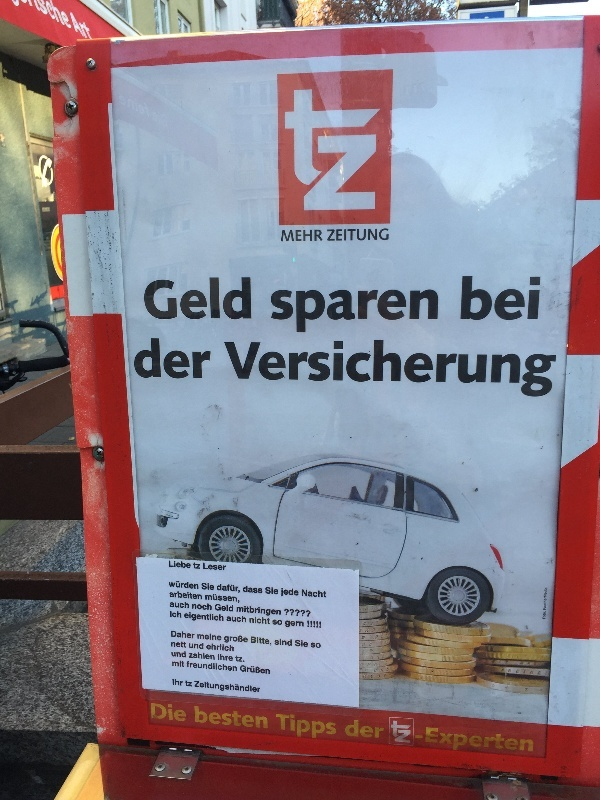text: (289, 89, 304, 211), (305, 89, 320, 211), (321, 89, 336, 211), (337, 89, 352, 211), (353, 89, 368, 211), (369, 89, 380, 211), (225, 334, 240, 402), (241, 334, 256, 402), (257, 334, 272, 402), (273, 334, 288, 402), (289, 334, 304, 402), (305, 334, 320, 402), (321, 334, 336, 402), (337, 334, 352, 402), (353, 334, 368, 402), (369, 334, 384, 402), (385, 334, 400, 402), (401, 334, 416, 402), (417, 334, 432, 402), (433, 334, 448, 402), (449, 334, 464, 402), (465, 334, 480, 402), (481, 334, 496, 402), (497, 334, 512, 402), (273, 288, 288, 336), (289, 288, 304, 336), (305, 288, 320, 336), (321, 288, 336, 336), (337, 288, 352, 336), (353, 288, 368, 336), (369, 288, 384, 336), (385, 288, 400, 336), (401, 288, 416, 336), (417, 288, 432, 336), (465, 276, 480, 322), (481, 276, 496, 322), (497, 276, 512, 322), (513, 276, 528, 322), (145, 277, 160, 320), (161, 277, 176, 320), (177, 277, 192, 320), (193, 277, 208, 320), (209, 277, 224, 320), (225, 277, 240, 320), (145, 338, 160, 379), (161, 338, 176, 379), (177, 338, 192, 379), (193, 338, 208, 379), (529, 276, 541, 322), (241, 277, 252, 320), (433, 728, 448, 757), (449, 728, 464, 757), (465, 728, 480, 757), (481, 728, 496, 757), (497, 728, 512, 757), (513, 728, 528, 757), (321, 714, 337, 740), (513, 334, 519, 402), (289, 714, 304, 740), (305, 714, 320, 740), (17, 1, 32, 27), (33, 1, 48, 27), (49, 1, 64, 27), (135, 338, 144, 379), (285, 89, 288, 211), (209, 706, 224, 729), (225, 706, 240, 729), (241, 706, 256, 729), (161, 702, 176, 723), (276, 714, 288, 740), (81, 13, 93, 39), (195, 706, 208, 729), (433, 288, 439, 336), (353, 720, 368, 739), (369, 720, 384, 739), (220, 334, 224, 402), (401, 720, 412, 744), (70, 13, 80, 39), (257, 706, 268, 729), (391, 720, 400, 744), (337, 228, 352, 242), (353, 228, 368, 242), (369, 228, 384, 242), (209, 681, 224, 695), (225, 681, 240, 695), (241, 681, 256, 695), (177, 702, 187, 723), (289, 229, 304, 242), (305, 229, 320, 242), (151, 702, 160, 723), (195, 681, 208, 695), (65, 1, 72, 27), (241, 605, 256, 617), (257, 605, 272, 617), (426, 728, 432, 757), (209, 593, 224, 604), (225, 593, 240, 604), (193, 661, 208, 672), (209, 661, 224, 672), (177, 580, 192, 590), (225, 584, 240, 594), (305, 589, 320, 599), (177, 590, 192, 600), (193, 612, 208, 622), (209, 612, 224, 622), (241, 665, 256, 675), (529, 728, 534, 757), (225, 661, 238, 672), (289, 608, 304, 617), (257, 637, 272, 646), (193, 652, 208, 661), (345, 720, 352, 739), (257, 665, 270, 675), (327, 228, 336, 242), (177, 560, 191, 569), (209, 563, 224, 571), (177, 631, 192, 639), (225, 636, 240, 644), (209, 644, 224, 652), (193, 562, 208, 569), (193, 603, 208, 610), (273, 619, 288, 626), (289, 621, 304, 628), (243, 586, 256, 594), (257, 617, 270, 625), (209, 633, 222, 641), (545, 587, 548, 620), (270, 288, 272, 336), (177, 601, 189, 609), (273, 605, 281, 617), (275, 639, 288, 646), (289, 588, 299, 597), (193, 590, 202, 600), (308, 621, 320, 628), (209, 338, 211, 379), (198, 633, 208, 641), (177, 641, 187, 649), (227, 616, 240, 622), (13, 1, 16, 27), (193, 643, 204, 650), (215, 604, 224, 612), (225, 604, 234, 612), (225, 644, 234, 652), (169, 580, 176, 590), (217, 584, 224, 594), (185, 612, 192, 622), (283, 229, 288, 242), (296, 640, 304, 648), (225, 654, 233, 662), (169, 560, 176, 569), (281, 588, 288, 597), (193, 580, 199, 590), (170, 590, 176, 600), (385, 228, 389, 242), (241, 636, 248, 644), (177, 661, 185, 668), (257, 681, 261, 695), (305, 608, 311, 617), (311, 642, 320, 648), (177, 652, 186, 658), (209, 652, 215, 661), (321, 589, 326, 599), (185, 680, 192, 687), (202, 583, 208, 591), (209, 583, 215, 591), (257, 586, 263, 594), (266, 587, 272, 595), (273, 587, 279, 595), (170, 601, 176, 609), (170, 611, 176, 619), (250, 617, 256, 625), (218, 654, 224, 662), (463, 276, 464, 322), (251, 637, 256, 646), (188, 661, 192, 672), (177, 679, 183, 686), (203, 563, 208, 571), (177, 611, 182, 619), (237, 605, 240, 617), (284, 608, 288, 617), (235, 656, 240, 663), (172, 631, 176, 639), (305, 640, 309, 648), (172, 641, 176, 649), (241, 616, 246, 622), (241, 656, 245, 663), (189, 652, 192, 661), (321, 229, 323, 242), (172, 652, 176, 658), (417, 735, 423, 739), (206, 593, 208, 604), (209, 603, 212, 610), (289, 639, 292, 646), (189, 643, 192, 650), (173, 661, 176, 668), (173, 679, 176, 686), (302, 589, 304, 599), (193, 631, 195, 639), (286, 621, 288, 628), (225, 563, 226, 571), (207, 644, 208, 652)
